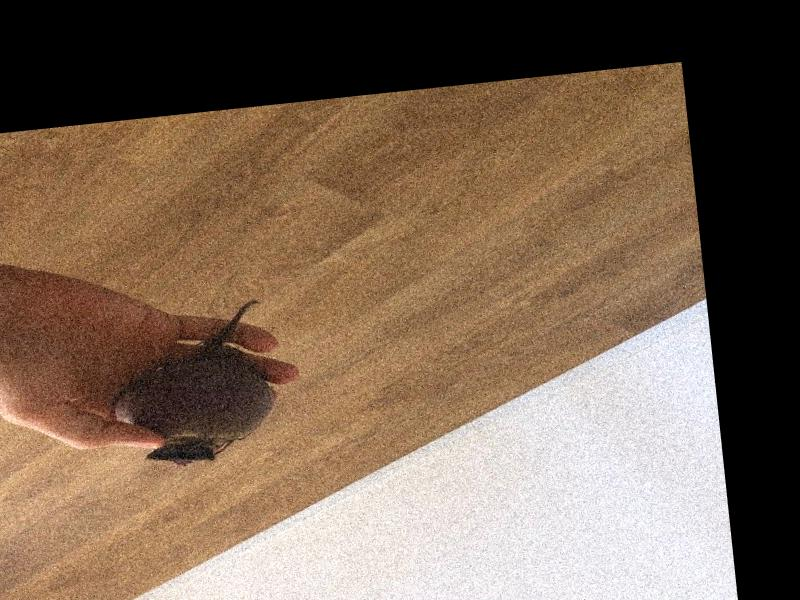Beet: (105, 298, 283, 468)
